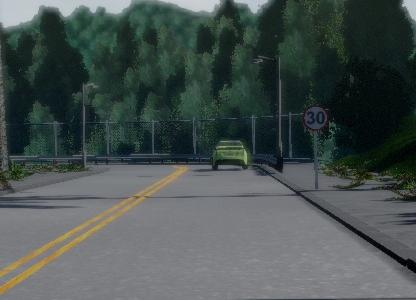Speed_30: (301, 103, 331, 132)
